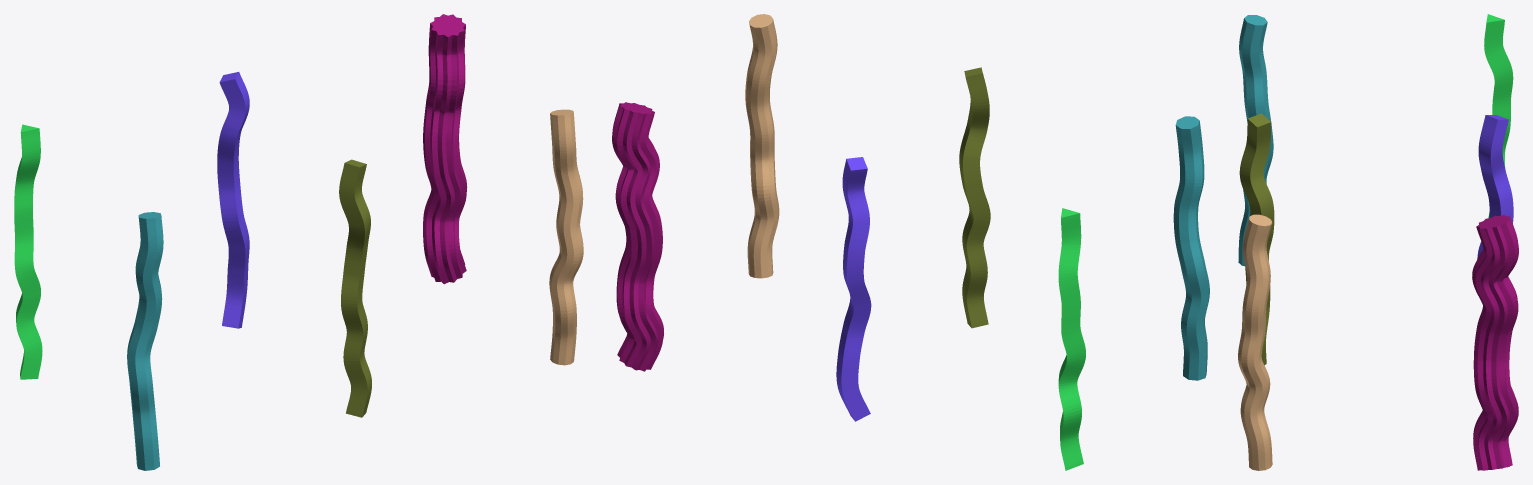
File: Phong Bump Mapped_Opened Spline_2023-07-23-20-47-44.gltf
3 views of the same model, side by side, from view 1: azimuth 30°, elevation 25°; view 2: azimuth 150°, elevation 25°; view 3: azimuth 270°, elevation 25° (orthographic). The views are drawn at different scales.
Size of the model in its own units: 434 by 234 by 234.
